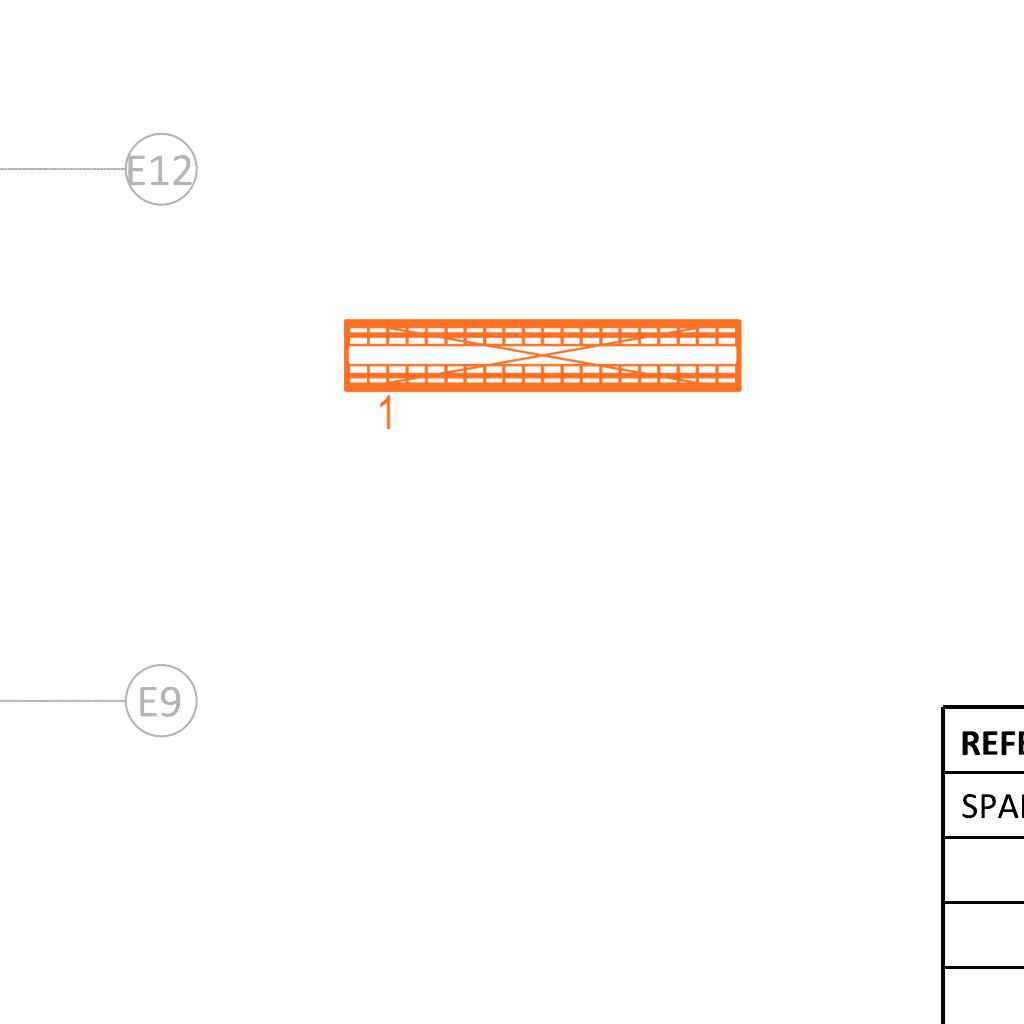Buero_Pendelleuchten_LED: (337, 309, 750, 439)
